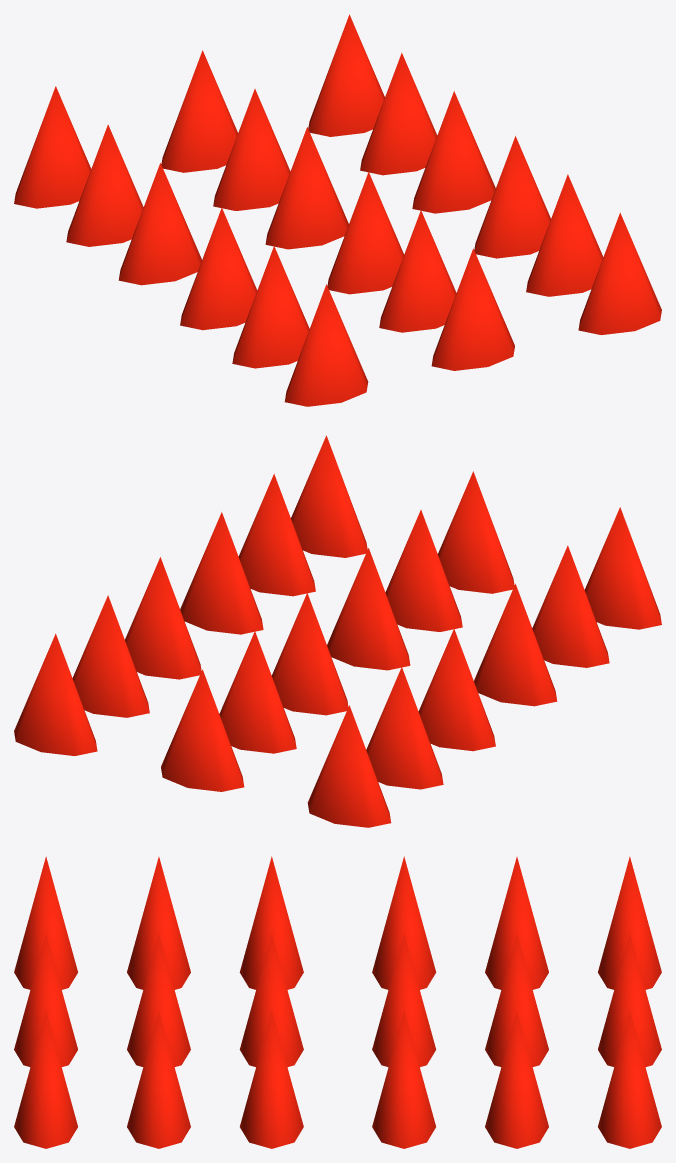
File: bay.fbx
3 views of the same model, one above another, from view 1: azimuth 30°, elevation 25°; view 2: azimuth 150°, elevation 25°; view 3: azimuth 270°, elevation 25° (orthographic). The views are drawn at different scales.
Parts seen in each view (by area): view 1: spike-obstacle.003; view 2: spike-obstacle.003; view 3: spike-obstacle.003.
Boxes of the visible parts, x1=… form: spike-obstacle.003: x1=14, y1=14, x2=661, y2=406; spike-obstacle.003: x1=14, y1=435, x2=661, y2=827; spike-obstacle.003: x1=14, y1=856, x2=661, y2=1148.
Bounding box in the file's own units: 278 × 76.01 × 383.
